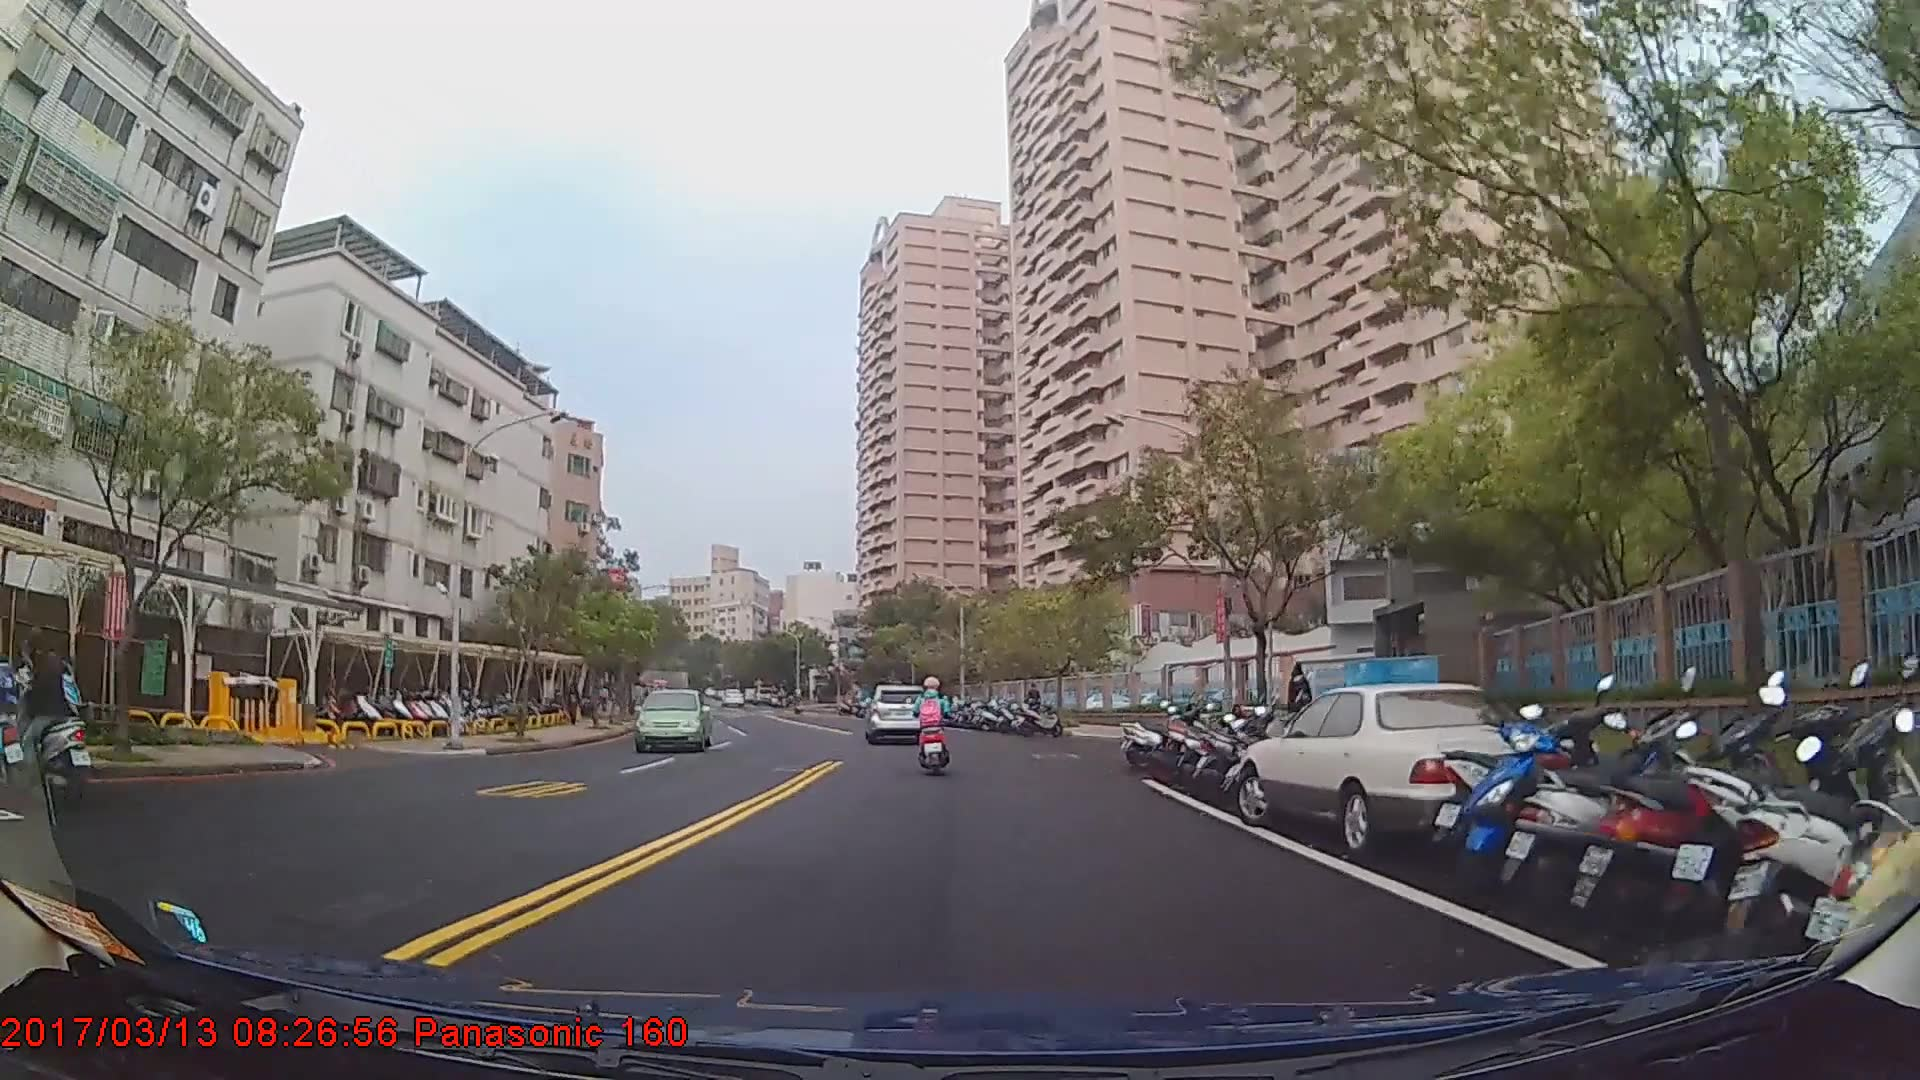pedestrian: (1289, 661, 1320, 749), (1025, 684, 1045, 728)
rider: (16, 639, 93, 803), (913, 674, 953, 779)
vehicle: (1235, 680, 1599, 852), (635, 686, 712, 751), (867, 682, 933, 743)
